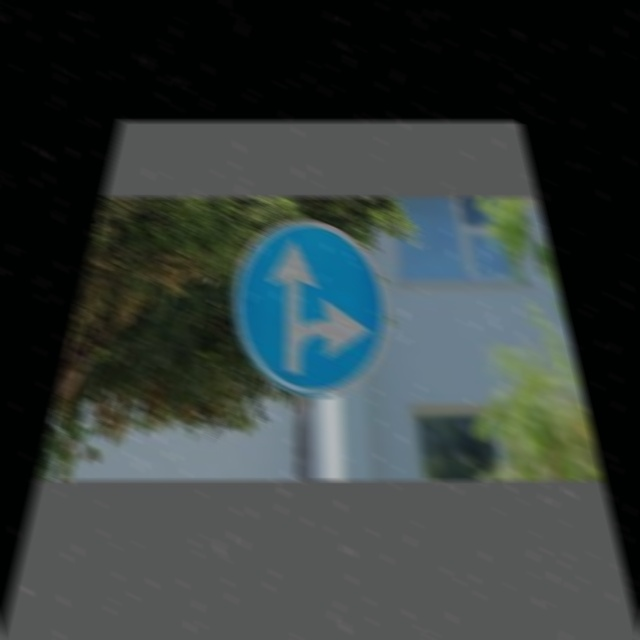Compulsory_Ahead_or_Turn_Right: (229, 219, 397, 397)
